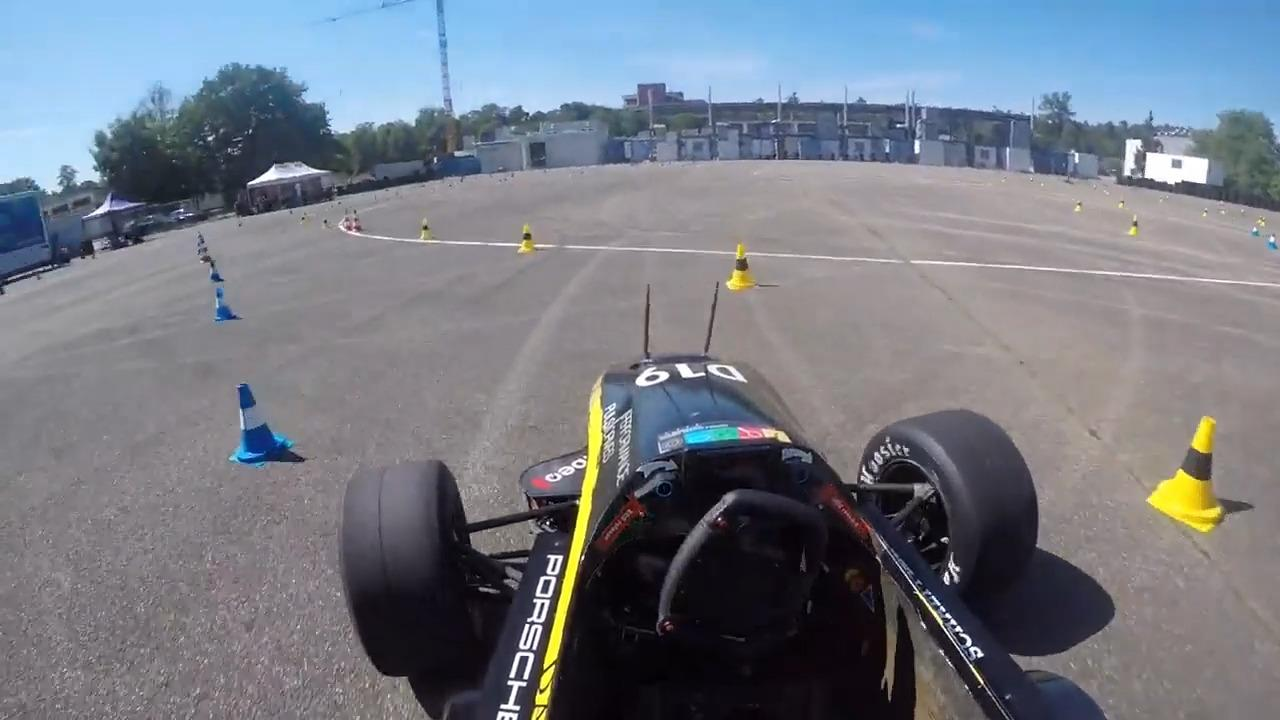blue_cone: (225, 380, 297, 470), (211, 287, 240, 324), (207, 262, 226, 285), (1266, 232, 1278, 252)
large_orange_cone: (343, 206, 353, 233), (352, 207, 362, 233)
yellow_cone: (1146, 406, 1238, 540), (723, 242, 760, 292), (516, 223, 538, 254), (419, 217, 435, 242), (1127, 213, 1139, 236)
